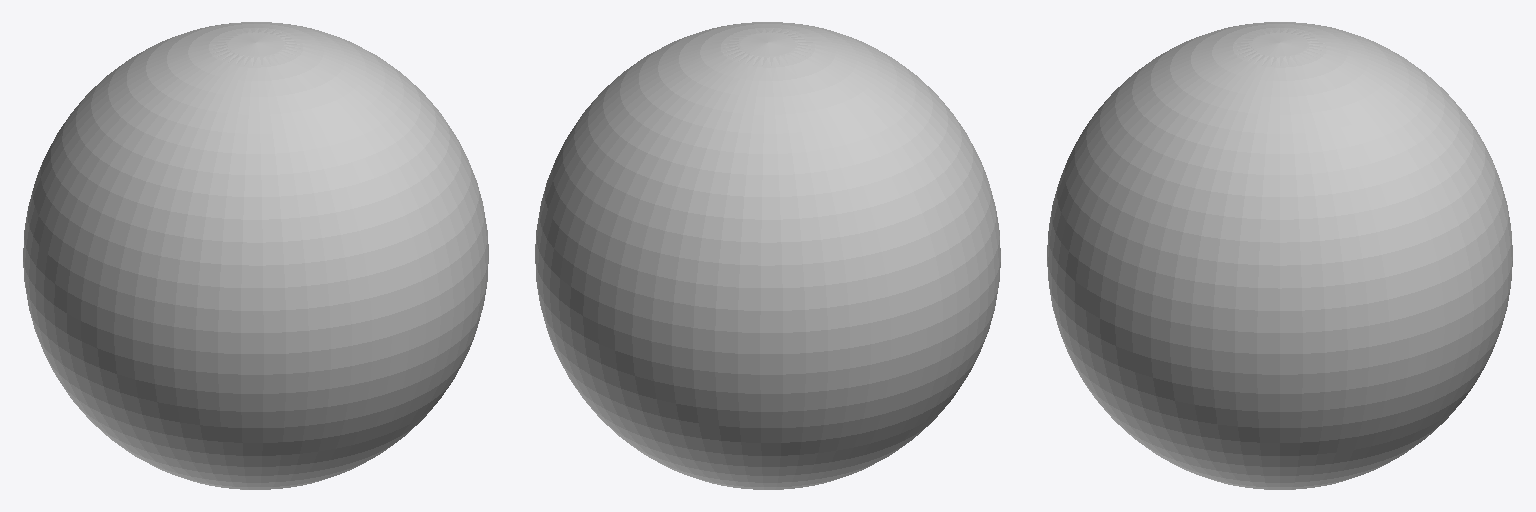
The model's file is sky.obj.
3 renders of one model, left to right at view 1: azimuth 30°, elevation 25°; view 2: azimuth 150°, elevation 25°; view 3: azimuth 270°, elevation 25°, orthographic.
Parts seen in each view (by area): view 1: Sphere; view 2: Sphere; view 3: Sphere.
Part boxes in pixels (x1,y1,x2,y2): Sphere: (23, 22, 488, 489); Sphere: (535, 22, 1000, 489); Sphere: (1047, 22, 1512, 489).
Bounding box in the file's own units: 6.4 × 6.46 × 6.4.